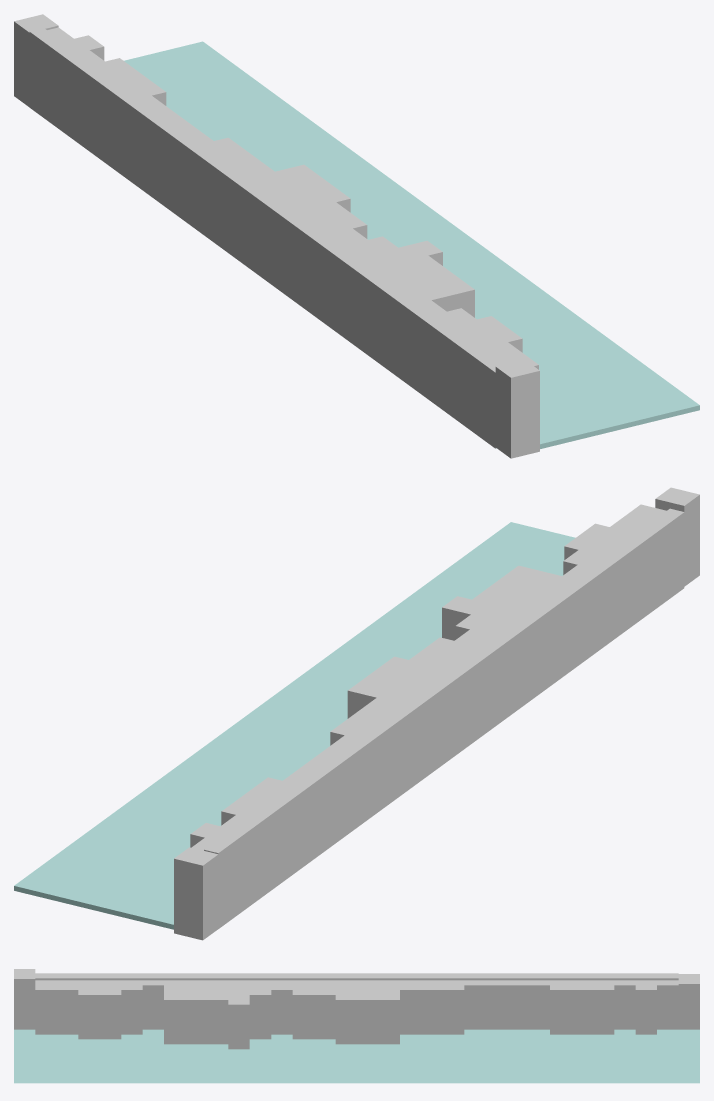
File: road17.fbx
3 views of the same model, one above another, from view 1: azimuth 30°, elevation 25°; view 2: azimuth 150°, elevation 25°; view 3: azimuth 270°, elevation 25° (orthographic). The views are drawn at different scales.
Visible parts, largest first — view 1: Plane; view 2: Plane; view 3: Plane.
Part boxes in pixels (left/top/right/bottom): Plane: left=14, top=14, right=699, bottom=458; Plane: left=14, top=487, right=699, bottom=940; Plane: left=14, top=969, right=699, bottom=1083.
Bounding box in the file's own units: 1120 × 466 × 5104.
